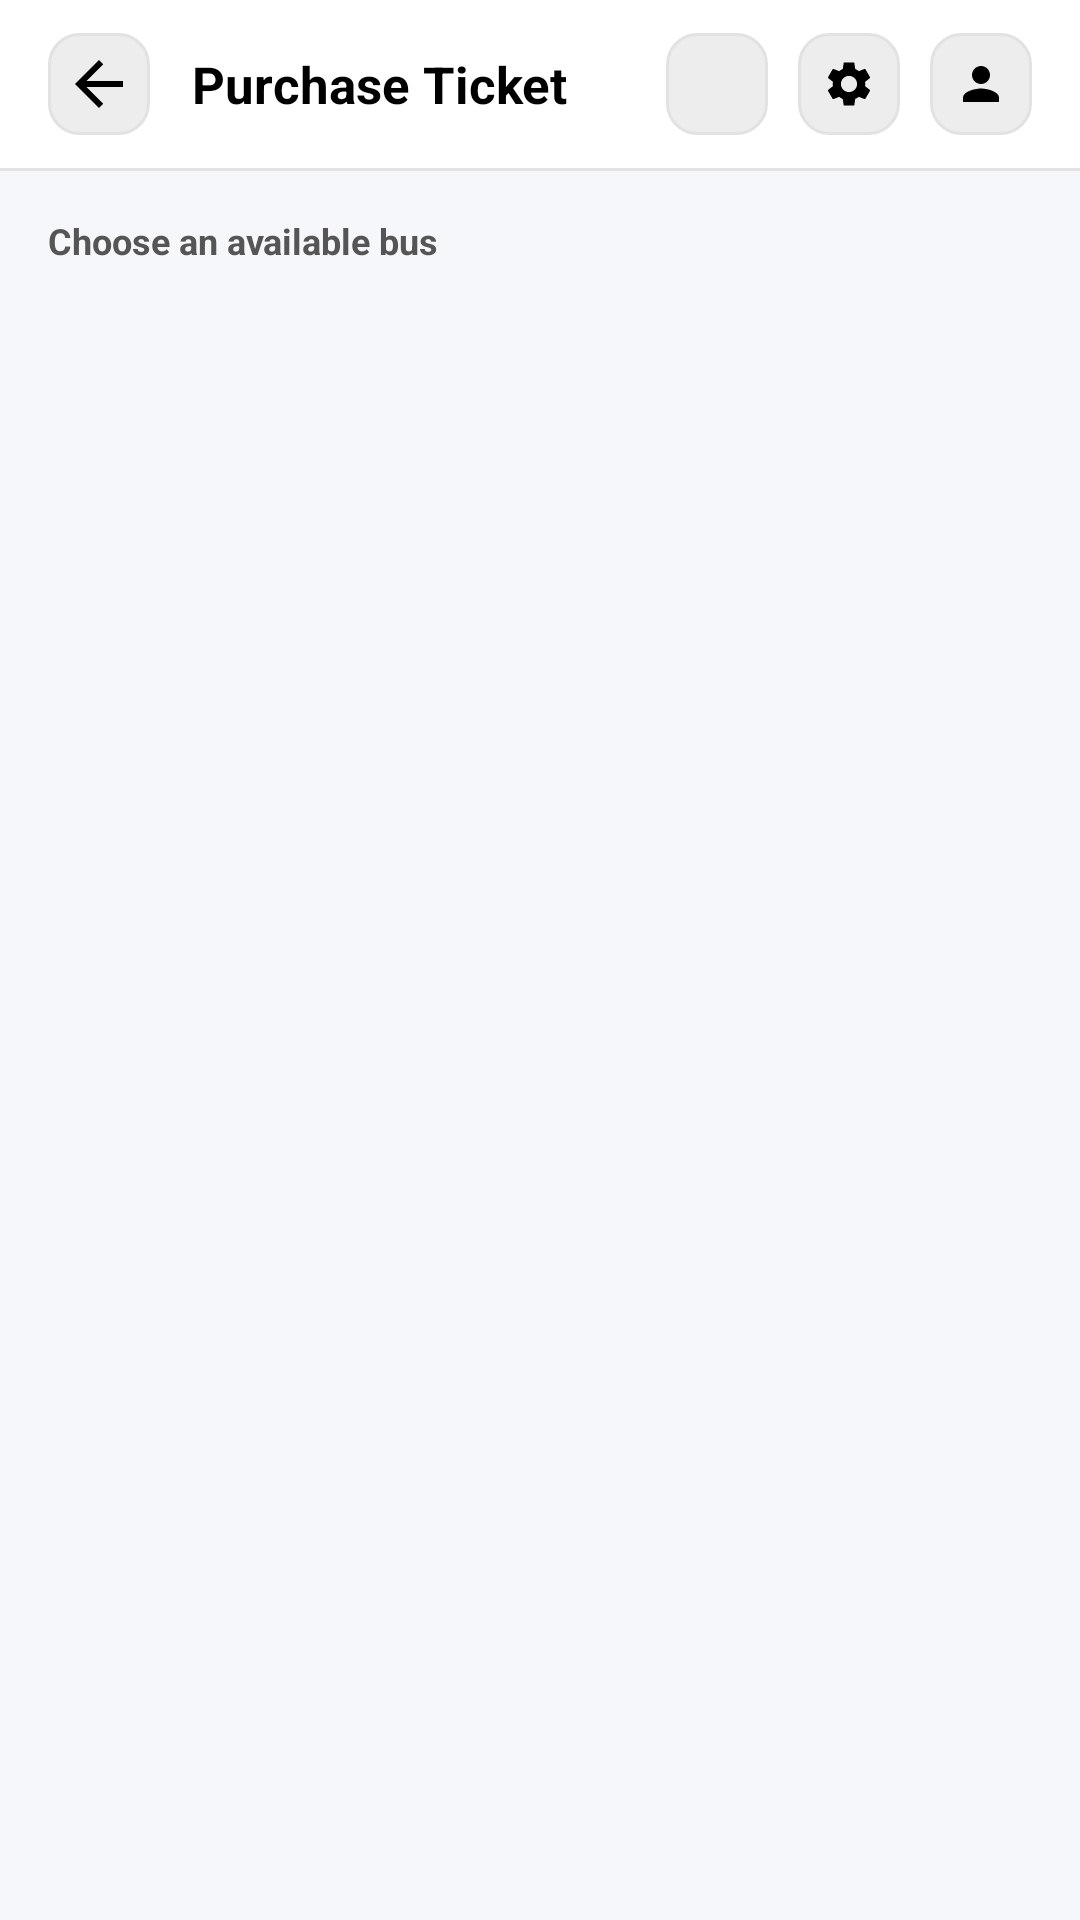

Screen size 1080×1920. Icon name, then its center in pixels as (x,y):
Back: (99,84)
person: (981,84)
settings: (849,84)
